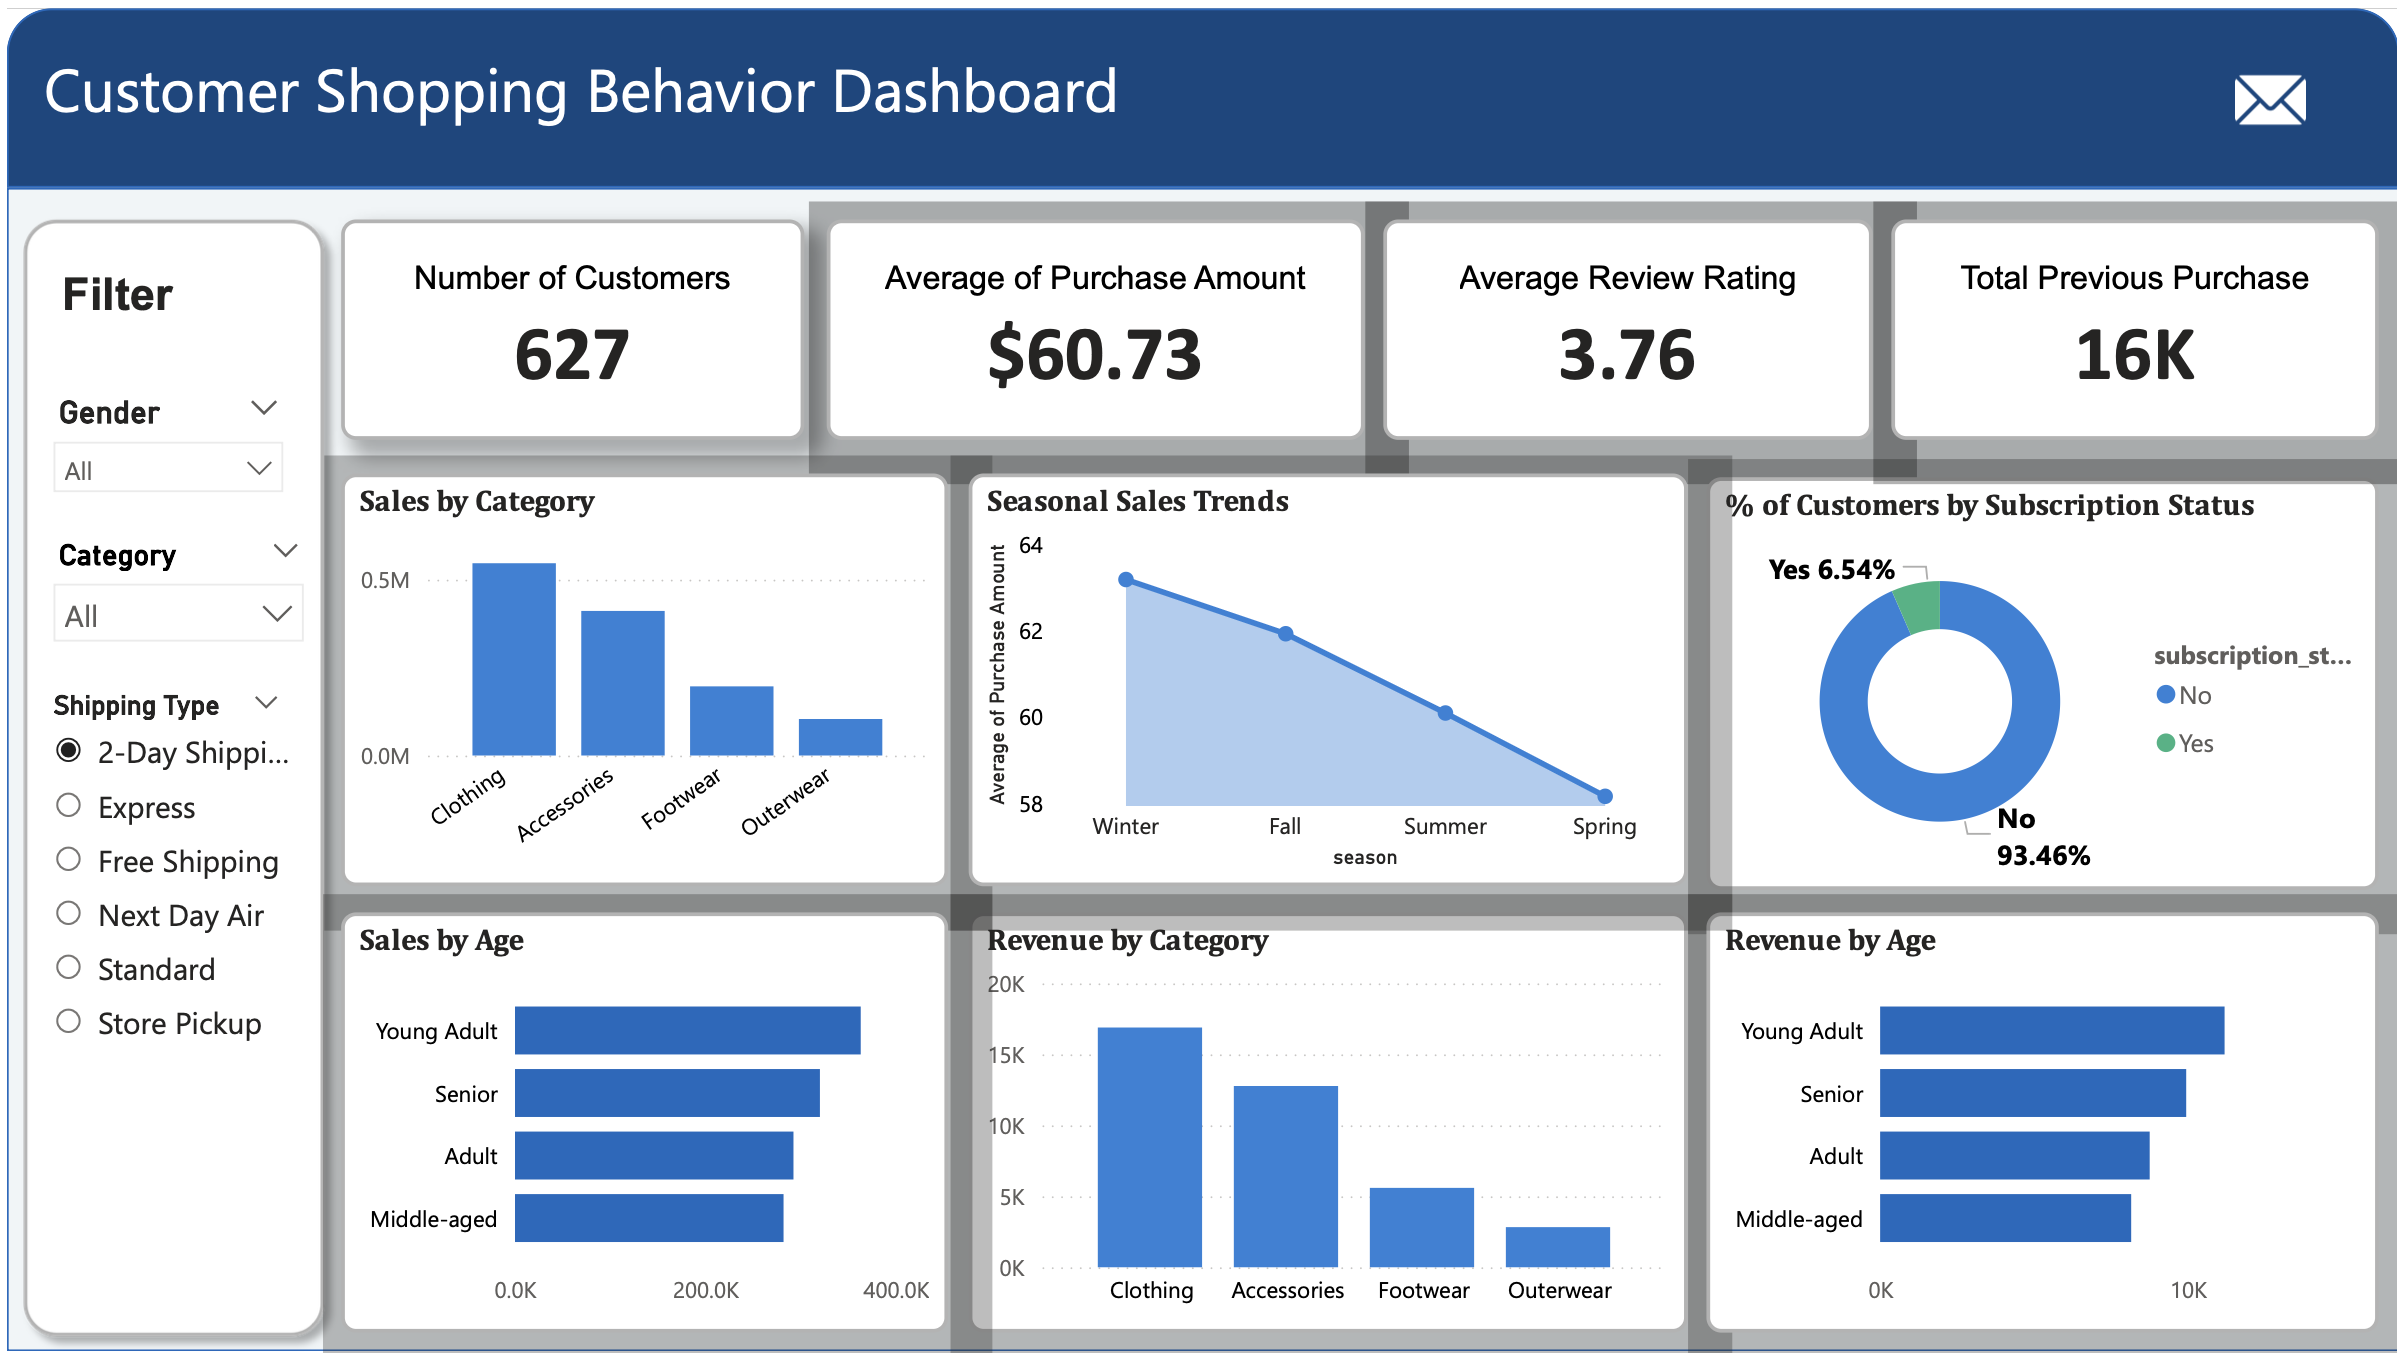

Layout of this report page (visuals, bound fields, positions):
{"tool":"powerbi","page":{"name":"Page 1","canvas":[1280,720],"ordinal":0},"visuals":[{"type":"shape","box":[0,0,1280.6,95.5],"z":0},{"type":"shape","box":[0,95.5,1280.6,623.9],"z":1000},{"type":"textbox","box":[15.4,15.4,738.2,82.6],"z":2000},{"type":"cardVisual","title":"sfsdfad","fields":{"Data":["shop customer.Number of Customers"]},"box":[179.1,113.4,247.8,117.9],"z":3000},{"type":"cardVisual","title":"sfsdfad","fields":{"Data":["shop customer.Average of Purchase Amount"]},"box":[438.8,113.4,288.1,117.9],"z":4000},{"type":"cardVisual","title":"sfsdfad","fields":{"Data":["shop customer.Average Review Rating"]},"box":[737.3,113.4,261.2,117.9],"z":5000},{"type":"donutChart","title":"% of Customers by Subscription Status ","fields":{"Category":["shop customer.subscription_status"],"Y":["Sum(shop customer.customer_id)"]},"box":[910.4,250.7,359.7,221],"z":6000},{"type":"clusteredColumnChart","title":"Revenue by Category","fields":{"Category":["shop customer.category"],"Y":["Sum(shop customer.purchase_amount)"]},"box":[514.9,483.6,385.1,225],"z":7000},{"type":"clusteredColumnChart","title":"Sales by Category","fields":{"Category":["shop customer.category"],"Y":["Sum(shop customer.customer_id)"]},"box":[179.1,249.3,325.4,221],"z":8000},{"type":"shape","box":[0,103.6,179.1,616.4],"z":9000},{"type":"textbox","box":[25.4,134.3,134.3,38.8],"z":10000},{"type":"slicer","title":"Category","fields":{"Values":["shop customer.category"]},"box":[14.9,277.6,153.7,64.2],"z":11000},{"type":"slicer","title":"Category","fields":{"Values":["shop customer.shipping_type"]},"box":[11.9,359.7,146.3,204.5],"z":12000},{"type":"barChart","title":"Sales by Age","fields":{"Y":["Sum(shop customer.customer_id)"],"Category":["shop customer.age_group"]},"box":[179.1,483.6,325.4,225],"z":13000},{"type":"barChart","title":"Revenue by Age","fields":{"Y":["Sum(shop customer.purchase_amount)"],"Category":["shop customer.age_group"]},"box":[910.4,483.6,359.7,225],"z":14000},{"type":"areaChart","title":"Seasonal Sales Trends","fields":{"Category":["shop customer.season"],"Y":["shop customer.Average of Purchase Amount"]},"box":[514.9,249.3,385.1,221],"z":15000},{"type":"slicer","title":"Gender","fields":{"Values":["shop customer.gender"]},"box":[14.9,201.5,143.3,59.7],"z":16000},{"type":"cardVisual","title":"sfsdfad","fields":{"Data":["Sum(shop customer.previous_purchases)"]},"box":[1009,113.4,261.2,117.9],"z":17000},{"type":"image","box":[1188.1,22.4,47.8,52.2],"z":18000}]}

Visuals, with their boxes in screenshot pixels (x1, y1, x2, y2), scaled from the page's 1280x720 canvas onto the 2406x1360 screenshot:
shape: {"x1": 0, "y1": 0, "x2": 2405, "y2": 180}
shape: {"x1": 0, "y1": 180, "x2": 2405, "y2": 1359}
textbox: {"x1": 29, "y1": 29, "x2": 1417, "y2": 185}
"sfsdfad" cardVisual: {"x1": 337, "y1": 214, "x2": 802, "y2": 437}
"sfsdfad" cardVisual: {"x1": 825, "y1": 214, "x2": 1366, "y2": 437}
"sfsdfad" cardVisual: {"x1": 1386, "y1": 214, "x2": 1877, "y2": 437}
"% of Customers by Subscription Status " donutChart: {"x1": 1711, "y1": 474, "x2": 2387, "y2": 891}
"Revenue by Category" clusteredColumnChart: {"x1": 968, "y1": 913, "x2": 1692, "y2": 1338}
"Sales by Category" clusteredColumnChart: {"x1": 337, "y1": 471, "x2": 948, "y2": 888}
shape: {"x1": 0, "y1": 196, "x2": 337, "y2": 1359}
textbox: {"x1": 48, "y1": 254, "x2": 300, "y2": 327}
"Category" slicer: {"x1": 28, "y1": 524, "x2": 317, "y2": 646}
"Category" slicer: {"x1": 22, "y1": 679, "x2": 297, "y2": 1066}
"Sales by Age" barChart: {"x1": 337, "y1": 913, "x2": 948, "y2": 1338}
"Revenue by Age" barChart: {"x1": 1711, "y1": 913, "x2": 2387, "y2": 1338}
"Seasonal Sales Trends" areaChart: {"x1": 968, "y1": 471, "x2": 1692, "y2": 888}
"Gender" slicer: {"x1": 28, "y1": 381, "x2": 297, "y2": 493}
"sfsdfad" cardVisual: {"x1": 1897, "y1": 214, "x2": 2388, "y2": 437}
image: {"x1": 2233, "y1": 42, "x2": 2323, "y2": 141}
